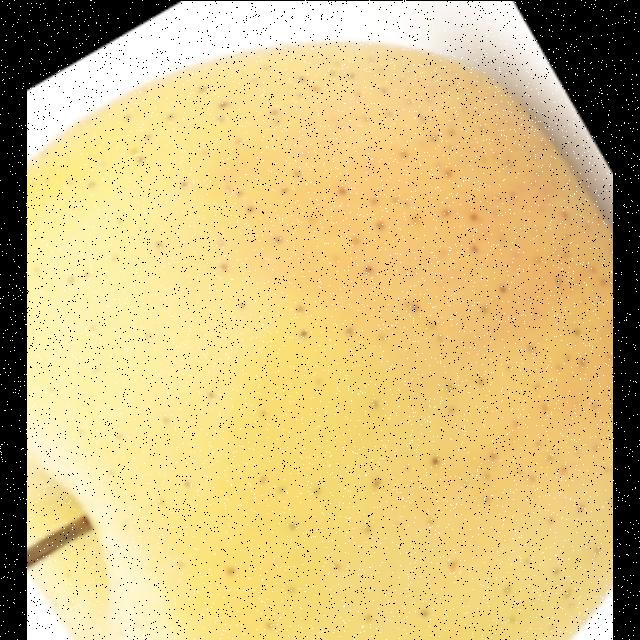Apel Segar: (27, 45, 613, 640)
